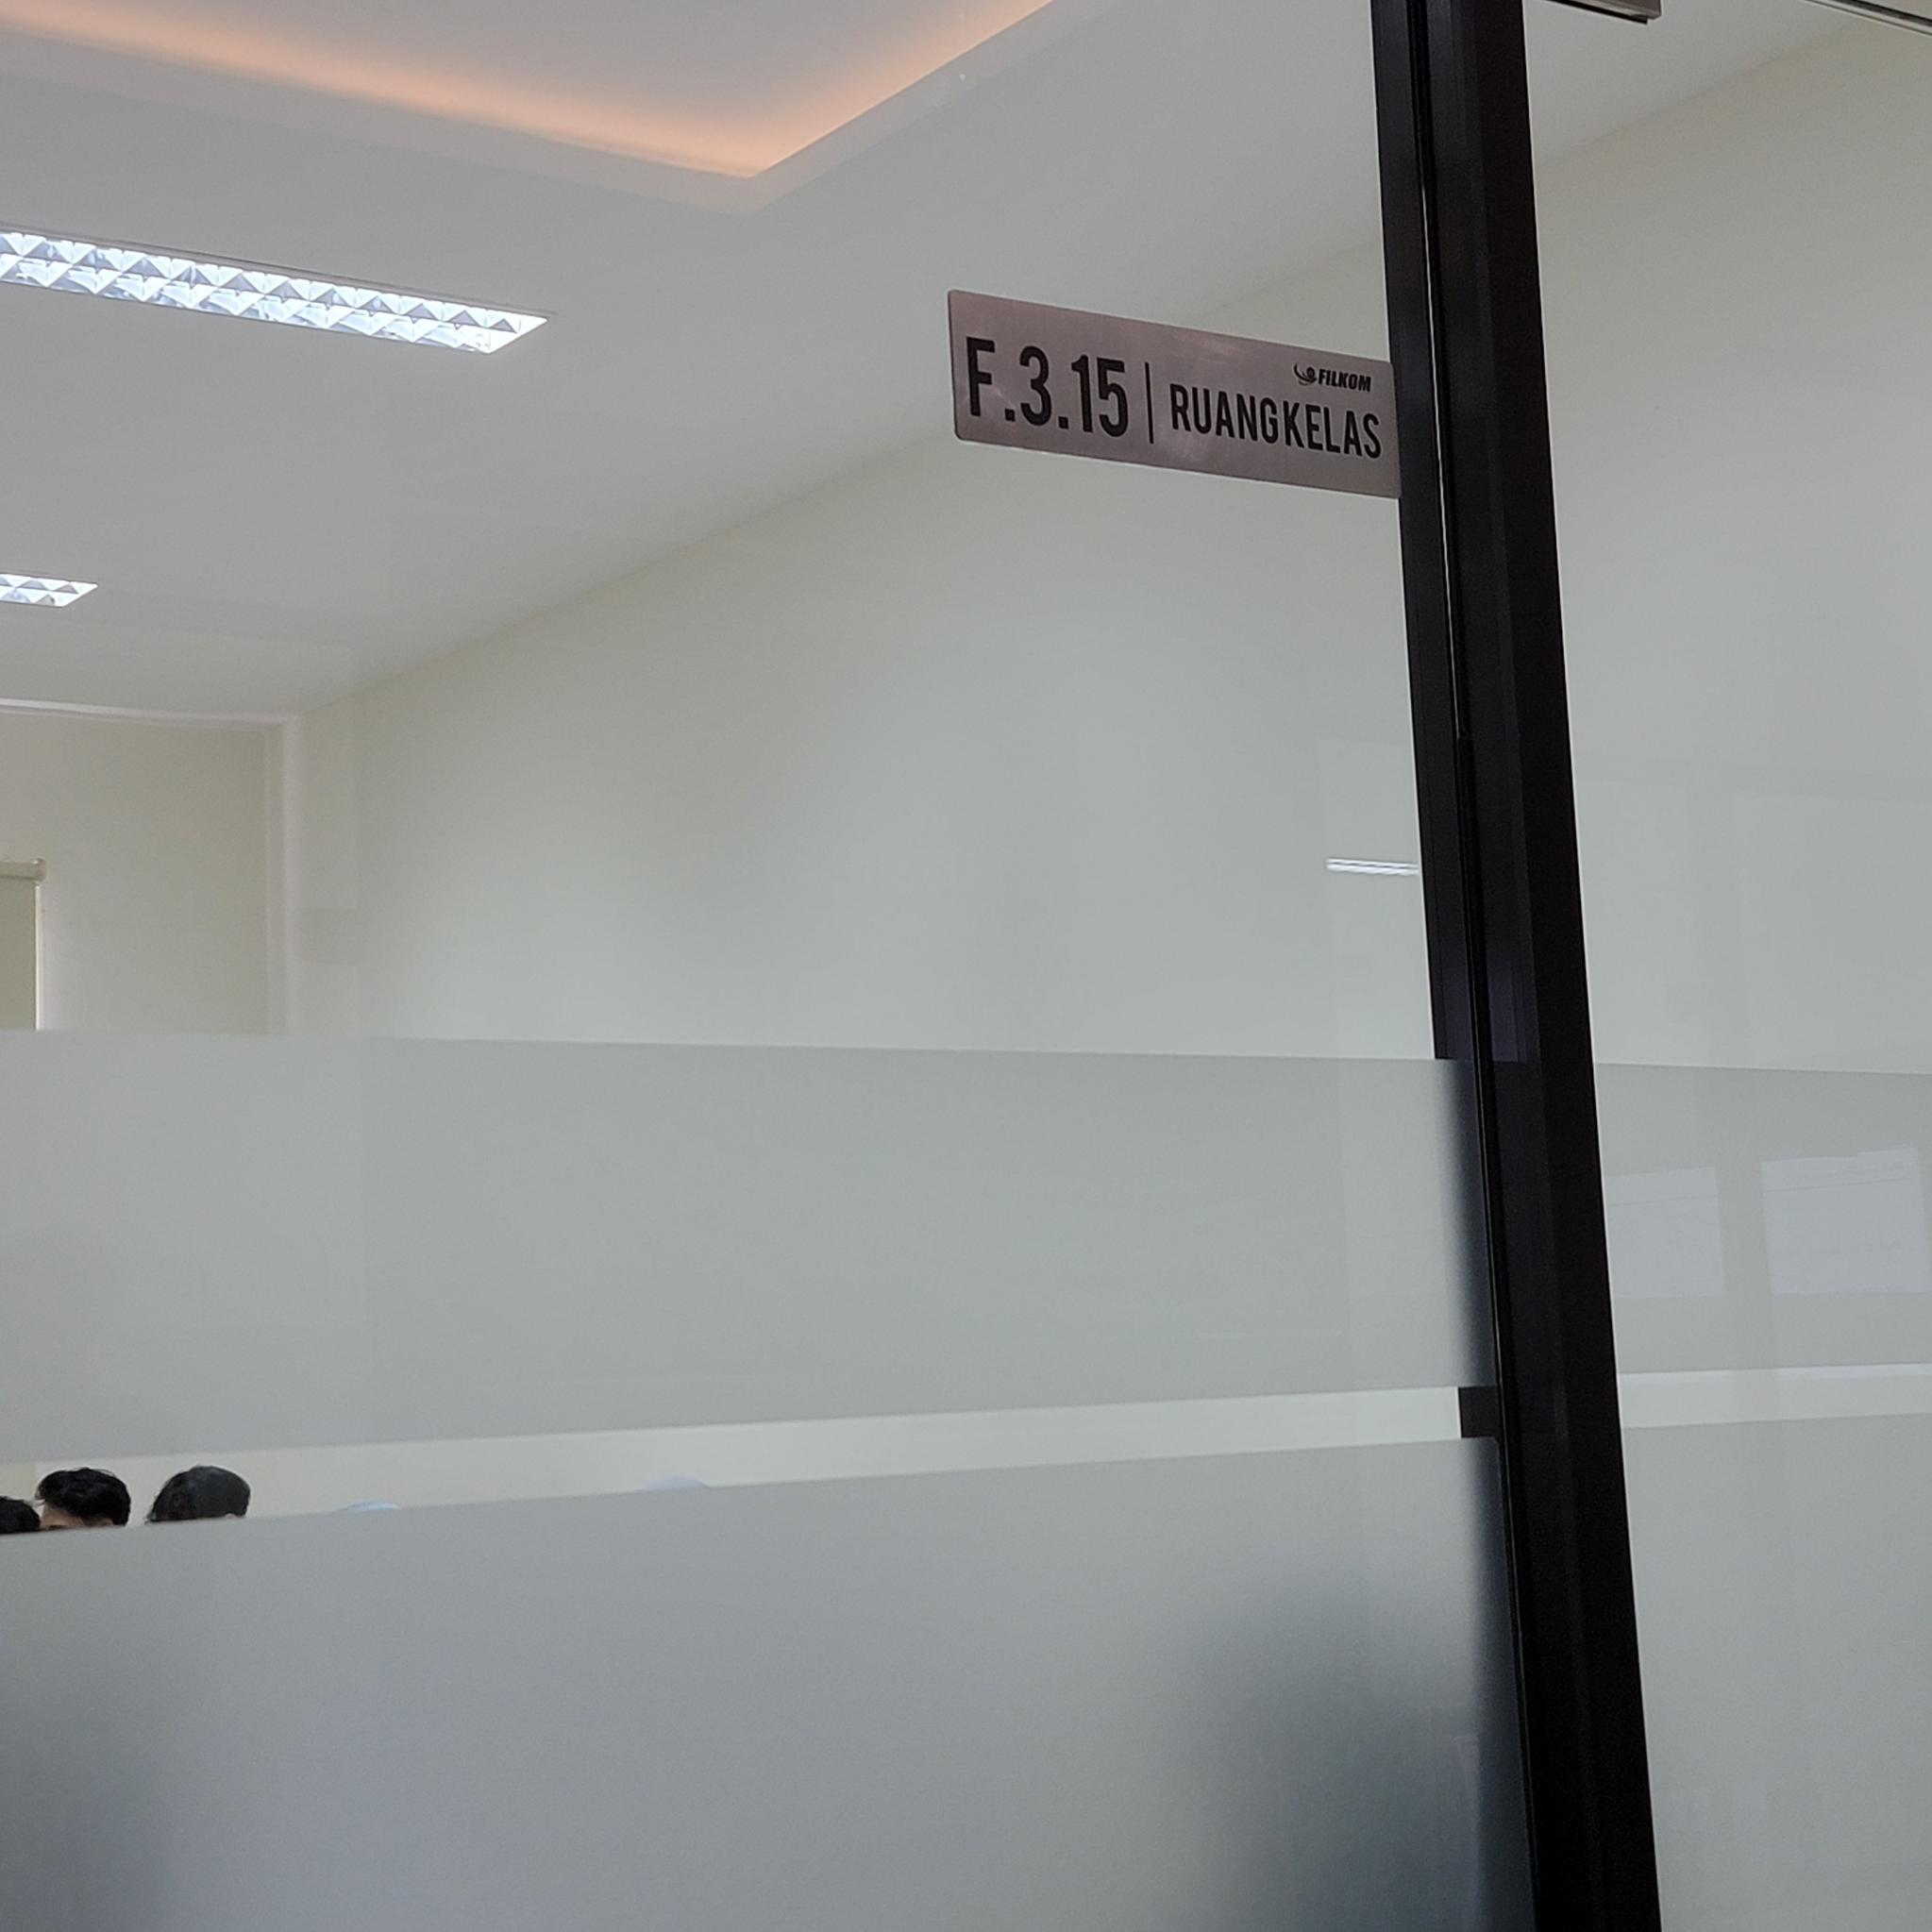plate: (947, 287, 1399, 501)
